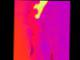Foc: (31, 0, 57, 20)
